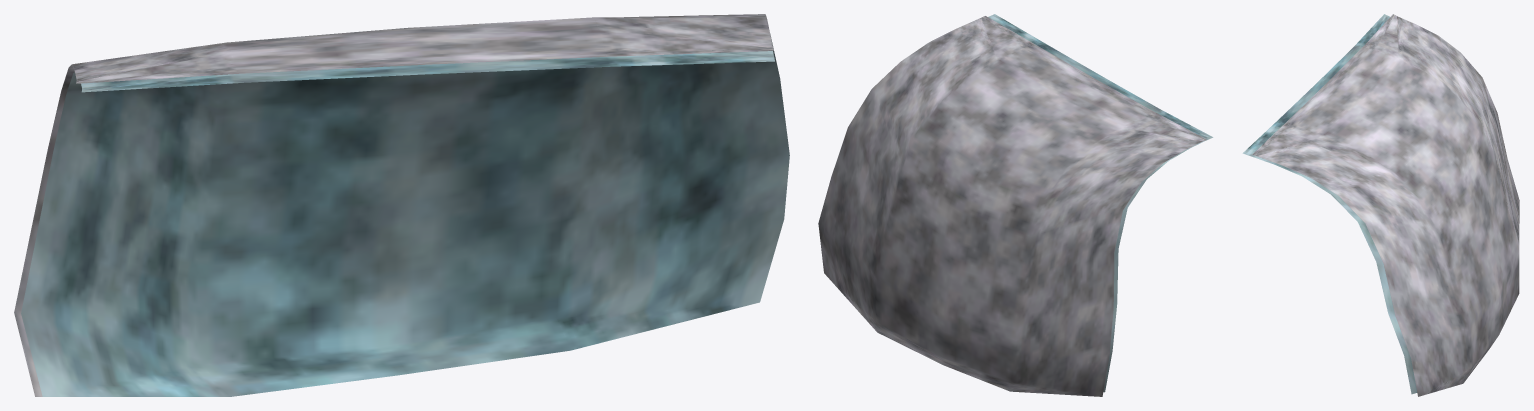
Rendered from CB_NEWPLAYSURFACE_CB_WATERFALLS17.fbx.
3 views of the same model, side by side, from view 1: azimuth 30°, elevation 25°; view 2: azimuth 150°, elevation 25°; view 3: azimuth 270°, elevation 25° (orthographic). The views are drawn at different scales.
Parts seen in each view (by area): view 1: CB_NEWPLAYSURFACE_CB_WATERFALLS17; view 2: CB_NEWPLAYSURFACE_CB_WATERFALLS17; view 3: CB_NEWPLAYSURFACE_CB_WATERFALLS17.
Boxes of the visible parts, left/top/right/bottom form: CB_NEWPLAYSURFACE_CB_WATERFALLS17: left=14, top=14, right=789, bottom=396; CB_NEWPLAYSURFACE_CB_WATERFALLS17: left=818, top=14, right=1213, bottom=396; CB_NEWPLAYSURFACE_CB_WATERFALLS17: left=1242, top=14, right=1519, bottom=396.
Bounding box in the file's own units: 96738 × 58609 × 62798.
Materials: 2 (2 with a texture image).
